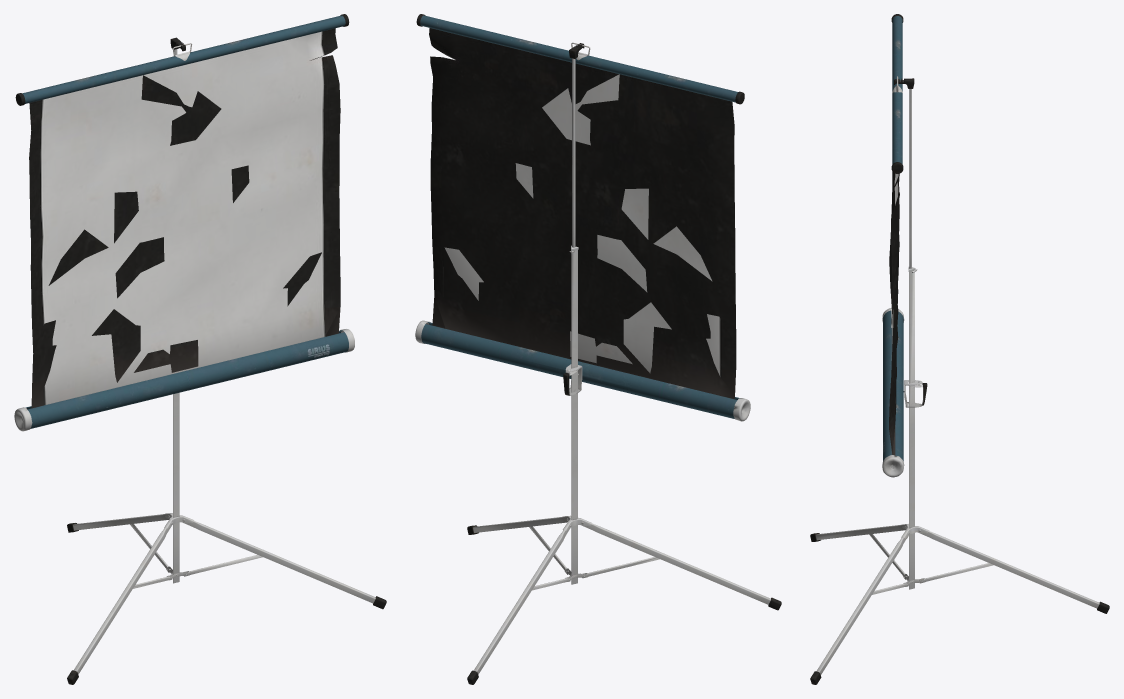
File: projector_screen.glb
The picture shows the model from 3 angles, left to right: view 1: azimuth 30°, elevation 25°; view 2: azimuth 150°, elevation 25°; view 3: azimuth 270°, elevation 25°; orthographic projection. The views are drawn at different scales.
Parts seen in each view (by area): view 1: projector_screen, projector_screen_frame; view 2: projector_screen, projector_screen_frame; view 3: projector_screen, projector_screen_frame.
Part boxes in pixels (bbox=[...]): projector_screen: bbox=[14, 14, 354, 431]; projector_screen_frame: bbox=[67, 392, 386, 684]; projector_screen: bbox=[415, 14, 750, 421]; projector_screen_frame: bbox=[467, 245, 781, 684]; projector_screen: bbox=[882, 14, 927, 477]; projector_screen_frame: bbox=[810, 267, 1109, 684].
Size of the model in its own units: 1.09 by 1.8 by 0.9158.
Materials: 2 (2 with a texture image).
